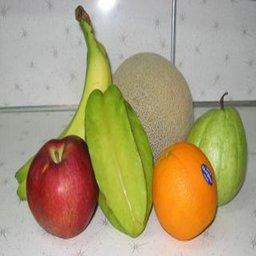apple: (26, 135, 100, 239)
